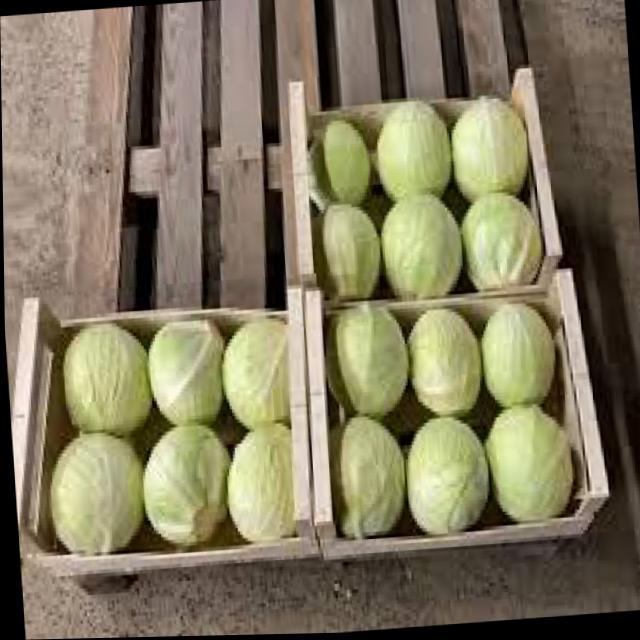Cabbage: (43, 433, 148, 559), (138, 423, 232, 556), (399, 413, 493, 540), (60, 318, 154, 442), (485, 403, 576, 525), (322, 300, 411, 423), (326, 416, 411, 542), (374, 195, 465, 303), (220, 424, 297, 547), (145, 317, 227, 431), (457, 192, 545, 298), (403, 308, 485, 419), (446, 93, 530, 201), (217, 316, 295, 430), (477, 302, 558, 410), (373, 104, 452, 200), (311, 202, 384, 304), (309, 113, 370, 208)
